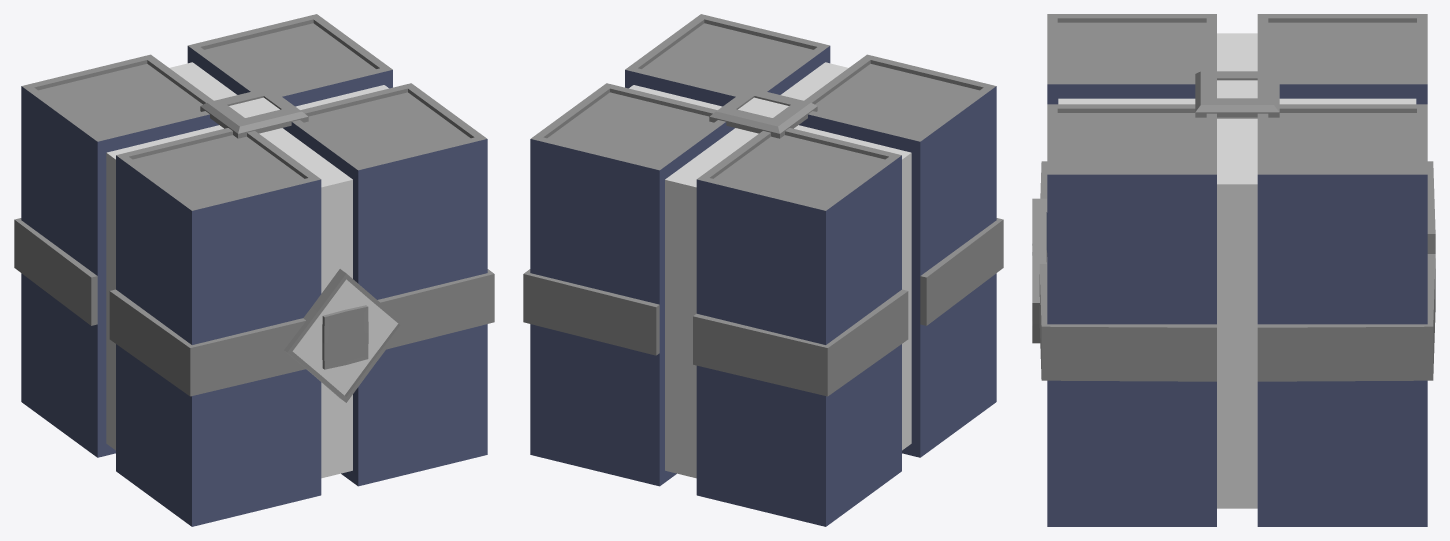
File: cubo_energia_02 1.fbx
The picture shows the model from 3 angles, left to right: view 1: azimuth 30°, elevation 25°; view 2: azimuth 150°, elevation 25°; view 3: azimuth 270°, elevation 25°; orthographic projection. The views are drawn at different scales.
Parts seen in each view (by area): view 1: Cube.002; view 2: Cube.002; view 3: Cube.002.
Boxes of the visible parts, x1,y1,x2,y2 form: Cube.002: (14,14,494,526); Cube.002: (523,14,1003,526); Cube.002: (1032,14,1435,526).
Size of the model in its own units: 0.3824 by 0.3814 by 0.389.
